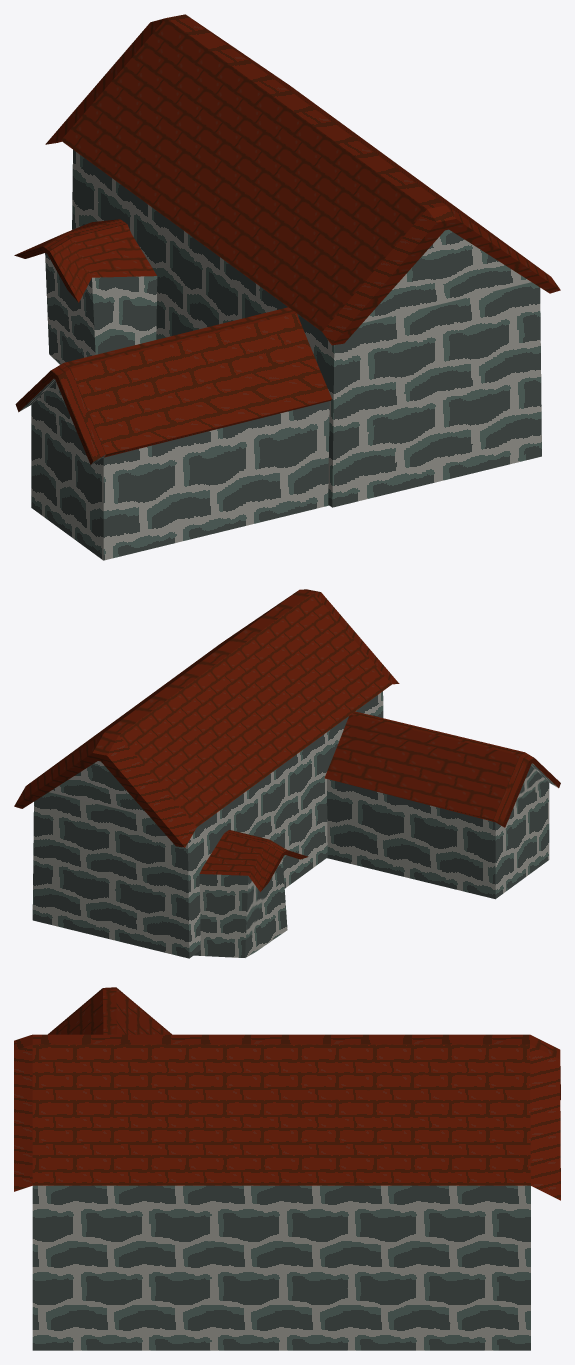
The model's file is building_pub.glb.
The picture shows the model from 3 angles, top to bottom: view 1: azimuth 30°, elevation 25°; view 2: azimuth 150°, elevation 25°; view 3: azimuth 270°, elevation 25°; orthographic projection. The views are drawn at different scales.
Visible parts, largest first — view 1: pub_centre, pub_right, pub_door; view 2: pub_centre, pub_right, pub_door; view 3: pub_centre, pub_right.
Part boxes in pixels (x1=…): pub_centre: x1=45, y1=14, x2=560, y2=507; pub_right: x1=15, y1=307, x2=331, y2=560; pub_door: x1=14, y1=219, x2=157, y2=364; pub_centre: x1=14, y1=589, x2=399, y2=958; pub_right: x1=324, y1=711, x2=560, y2=899; pub_door: x1=194, y1=830, x2=308, y2=957; pub_centre: x1=14, y1=1034, x2=560, y2=1350; pub_right: x1=48, y1=987, x2=171, y2=1034.
Bounding box in the file's own units: 20.3 × 12.04 × 22.1.
2 materials, 2 textured.
